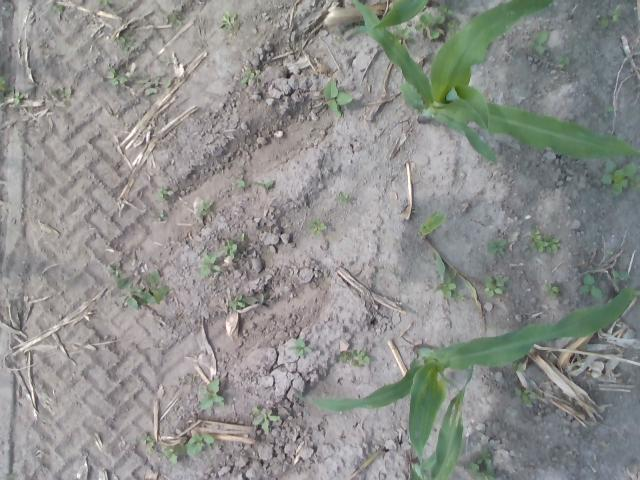Maize: (284, 275, 632, 466), (350, 0, 640, 166), (402, 363, 474, 480), (370, 0, 440, 28)
Weeds: (106, 260, 170, 310), (162, 433, 214, 465), (597, 158, 640, 196), (321, 80, 352, 116), (466, 446, 496, 480), (434, 270, 464, 304), (197, 379, 226, 411), (527, 228, 560, 256), (137, 69, 172, 95), (251, 406, 280, 436), (414, 10, 444, 38), (577, 272, 604, 300), (195, 250, 222, 278), (522, 27, 550, 52), (338, 349, 371, 367), (482, 274, 508, 296), (599, 4, 622, 28), (118, 28, 139, 54), (220, 11, 242, 34), (228, 295, 264, 309), (514, 386, 539, 406), (104, 68, 130, 86), (51, 86, 73, 107), (288, 338, 313, 356), (486, 236, 508, 256), (308, 218, 330, 236), (220, 237, 238, 258), (239, 67, 260, 84), (391, 24, 412, 41), (542, 282, 563, 298), (139, 432, 156, 450), (610, 267, 630, 282), (198, 199, 214, 217), (155, 184, 172, 200), (446, 18, 461, 36), (254, 179, 276, 190), (556, 55, 570, 69), (336, 192, 352, 204), (512, 359, 526, 372), (11, 92, 24, 106), (436, 4, 454, 14), (628, 286, 640, 300), (168, 13, 182, 25), (234, 177, 247, 189), (0, 74, 5, 104), (51, 4, 62, 13), (603, 107, 613, 116), (97, 0, 112, 5)
